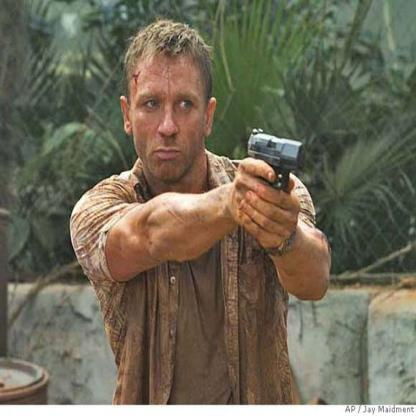Pistol: (240, 124, 308, 206)
